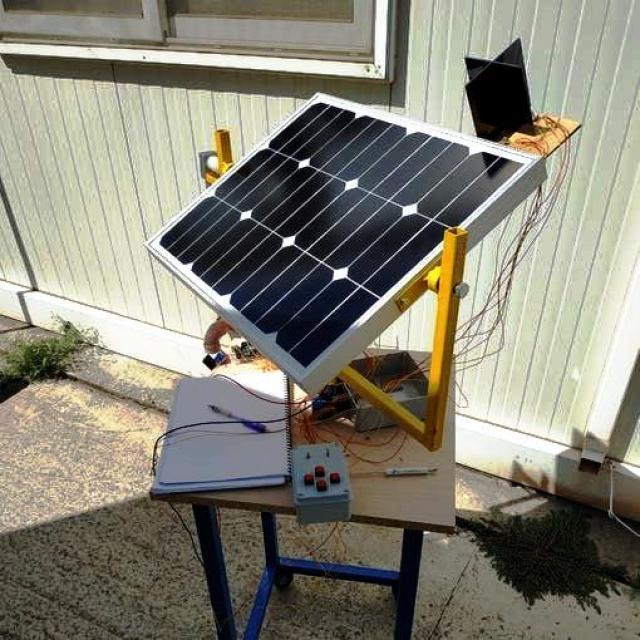no faulty: (155, 97, 530, 375)
